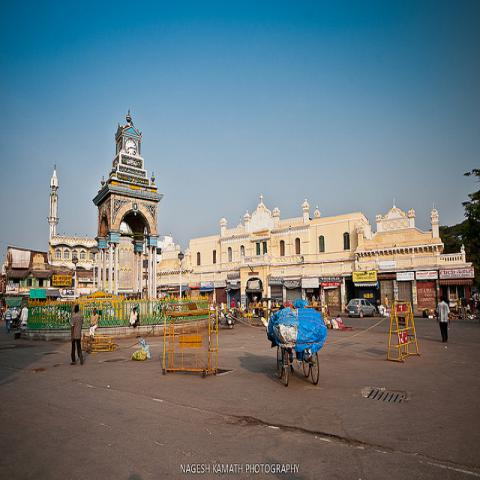car: (348, 299, 377, 318)
